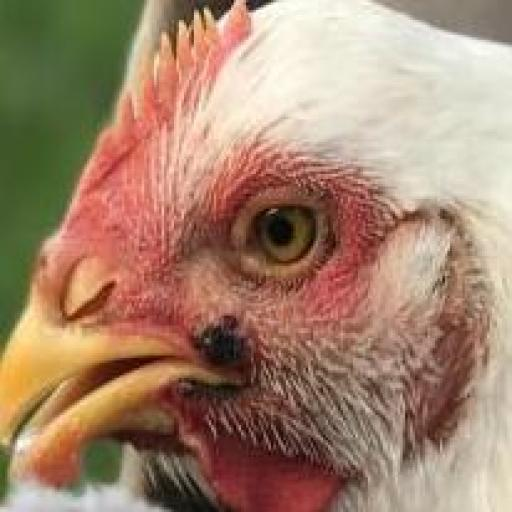disease: (179, 302, 267, 376)
